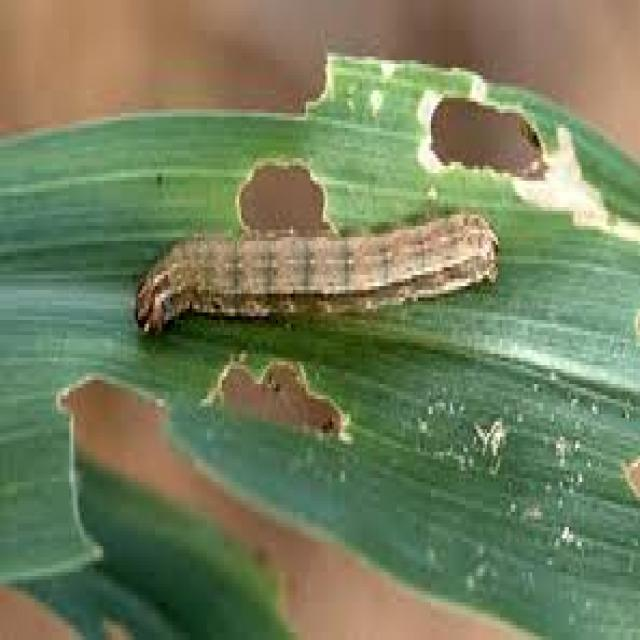Army Worm: (131, 202, 504, 342)
